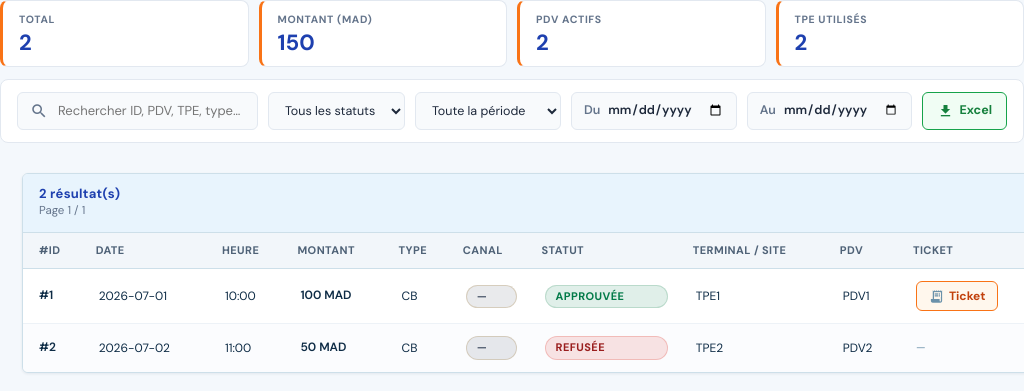
CommercantTransactionsPage › filtre par statut
Step 1. Select "Refusée" in the dropdown named "Statut" → (336, 111), box x1=268 y1=92 x2=405 y2=130
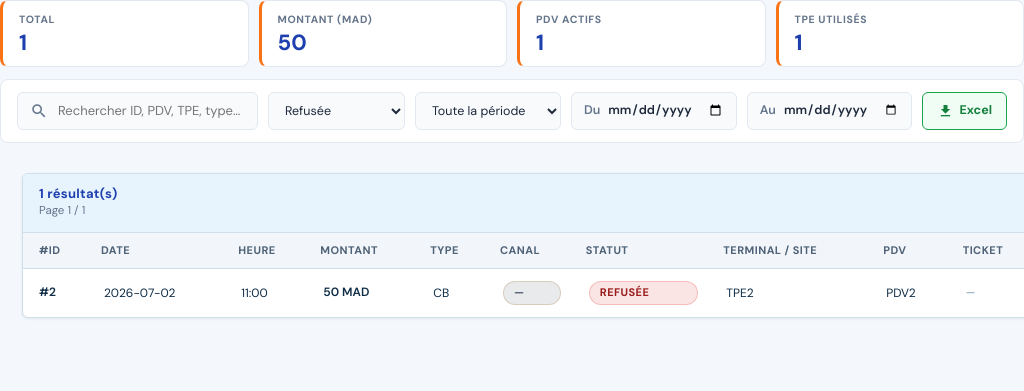
Expected: the text "#2" is shown, x1=39 y1=284 x2=56 y2=300
Result: the text "#1" is gone
